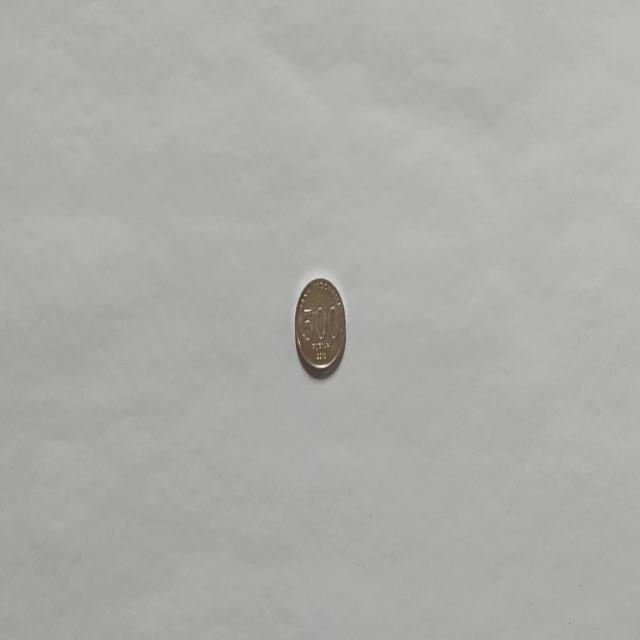lima ratus rupiah: (294, 276, 346, 378)
